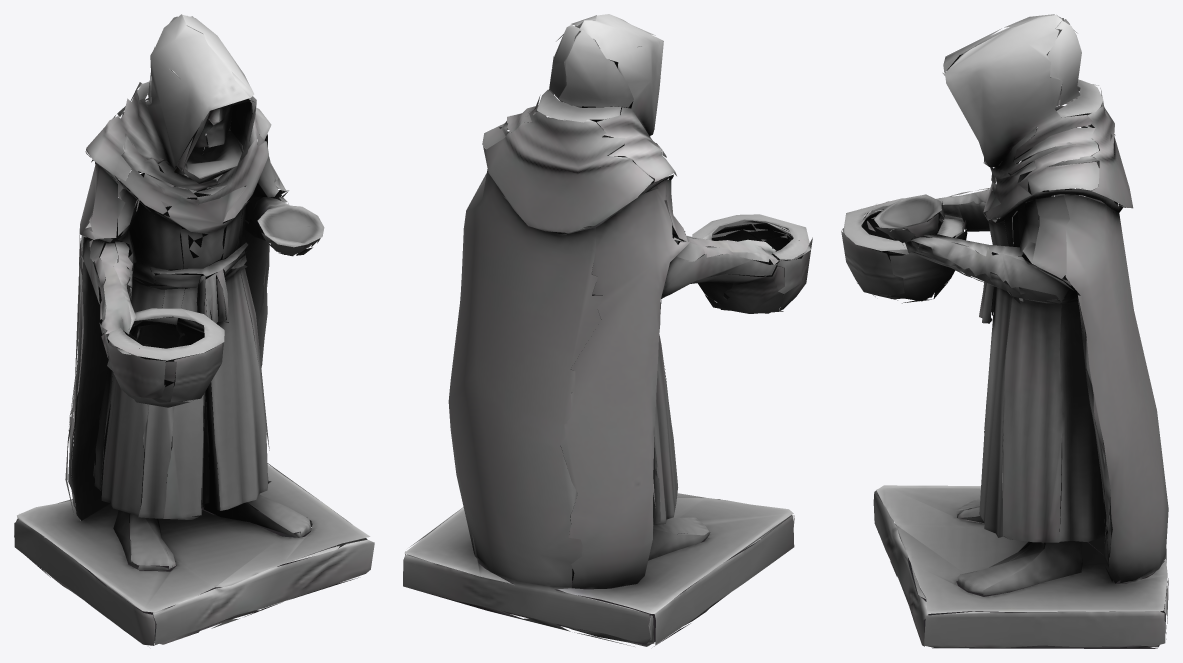
File: lan_processional_statue.glb
3 views of the same model, side by side, from view 1: azimuth 30°, elevation 25°; view 2: azimuth 150°, elevation 25°; view 3: azimuth 270°, elevation 25° (orthographic). The views are drawn at different scales.
Parts seen in each view (by area): view 1: MetricPlacement; view 2: MetricPlacement; view 3: MetricPlacement.
Boxes of the visible parts, <box> form: MetricPlacement: <box>14,14,374,645</box>; MetricPlacement: <box>403,14,812,646</box>; MetricPlacement: <box>841,14,1168,648</box>.
Bounding box in the file's own units: 1.3 × 2.5 × 1.3.
1 material, 1 textured.
